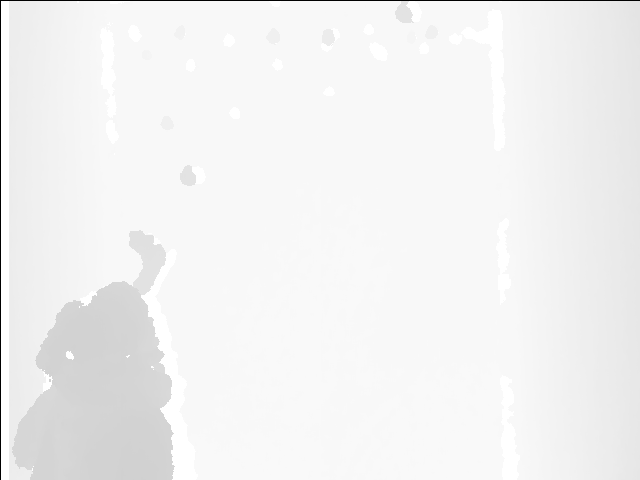hand: (126, 227, 168, 281)
